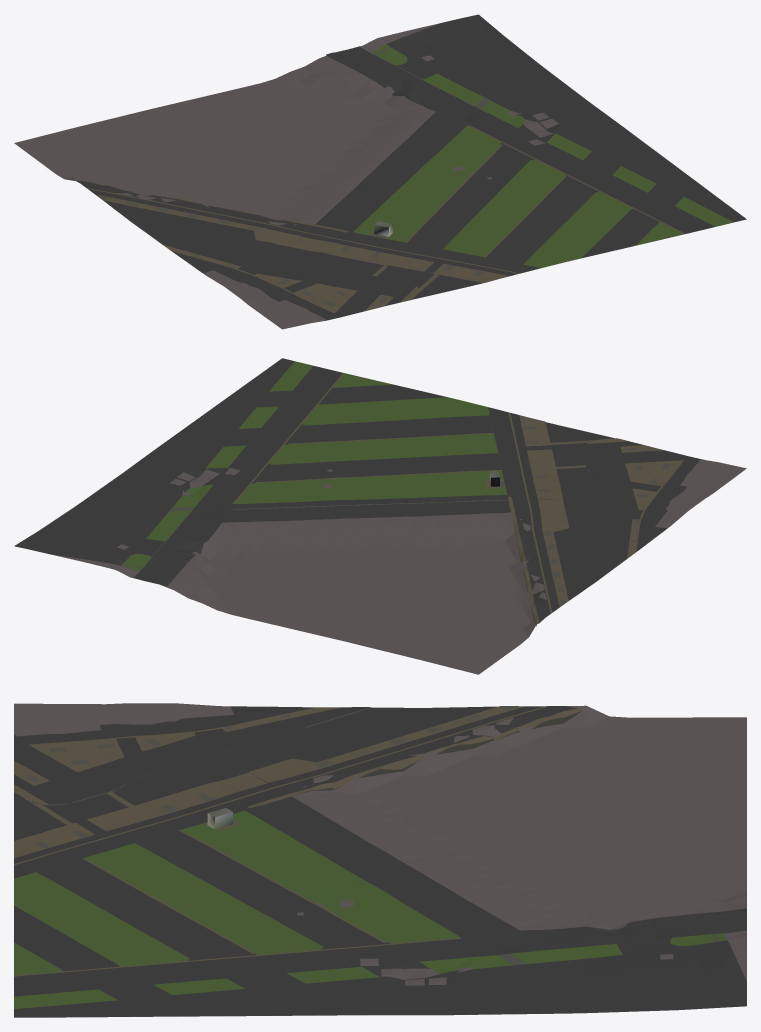
3 renders of one model, top to bottom at view 1: azimuth 30°, elevation 25°; view 2: azimuth 150°, elevation 25°; view 3: azimuth 270°, elevation 25°, orthographic. The views are drawn at different scales.
Parts seen in each view (by area): view 1: c_m12_m14; view 2: c_m12_m14; view 3: c_m12_m14.
Boxes of the visible parts, x1,y1,x2,y2 form: c_m12_m14: [14, 14, 746, 329]; c_m12_m14: [14, 358, 746, 674]; c_m12_m14: [14, 703, 746, 1017].
Size of the model in its own units: 128 by 4.47 by 128.
